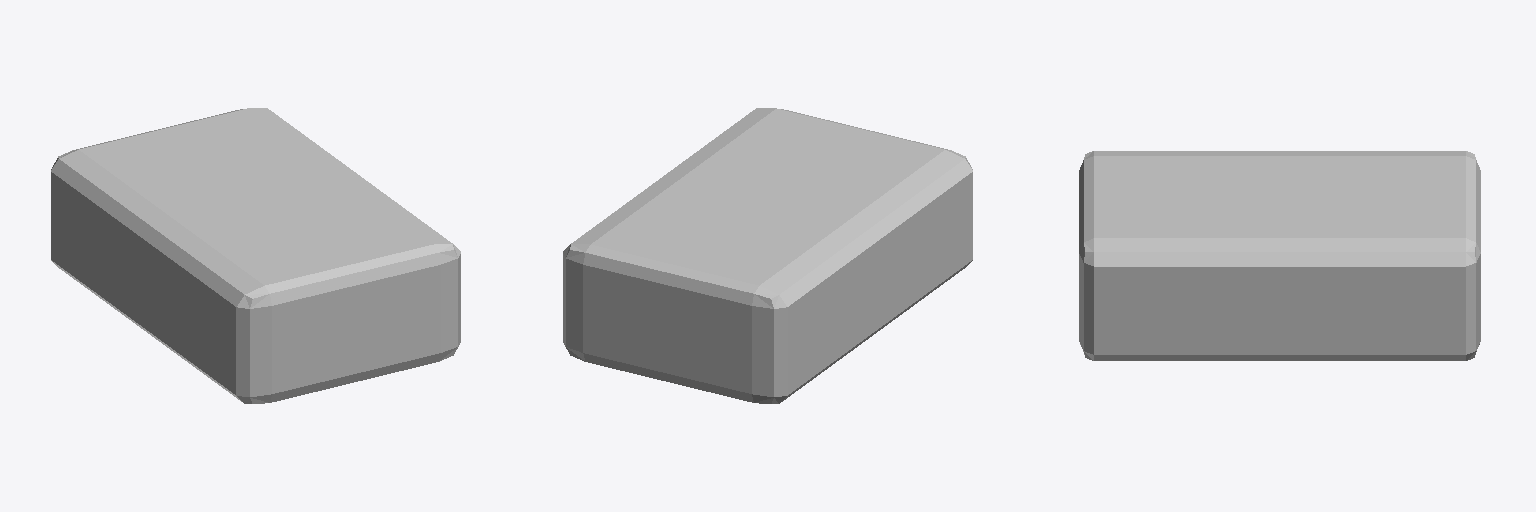
Rendered from block 1 final.obj.
The picture shows the model from 3 angles: view 1: azimuth 30°, elevation 25°; view 2: azimuth 150°, elevation 25°; view 3: azimuth 270°, elevation 25°; orthographic projection.
Parts seen in each view (by area): view 1: pCube1; view 2: pCube1; view 3: pCube1.
Boxes of the visible parts, box(x1,y1,x2,y2) form: pCube1: box(51, 108, 460, 403); pCube1: box(563, 108, 972, 403); pCube1: box(1079, 151, 1480, 360).
Size of the model in its own units: 3.73 by 1.87 by 5.77.